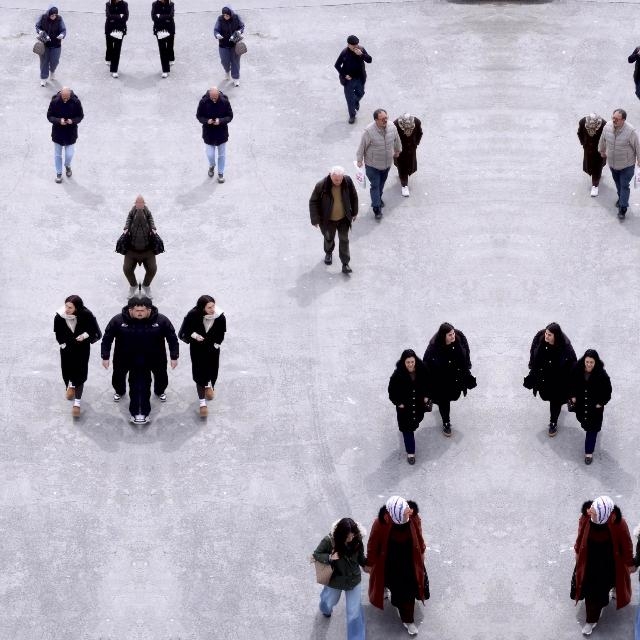person: (366, 496, 428, 636), (572, 496, 634, 636), (313, 516, 372, 640), (422, 322, 478, 438), (522, 322, 578, 438), (177, 294, 227, 418), (53, 294, 103, 418), (387, 348, 433, 466), (567, 348, 613, 466), (309, 166, 359, 274), (356, 108, 404, 220), (140, 296, 180, 426), (100, 296, 140, 426), (596, 108, 640, 220), (196, 86, 234, 184), (46, 86, 84, 184), (334, 35, 372, 125), (576, 112, 608, 198), (392, 112, 423, 198), (213, 7, 245, 88), (35, 7, 67, 88), (140, 194, 160, 298), (120, 194, 140, 298), (150, 0, 176, 78), (104, 0, 130, 78), (628, 516, 640, 639), (628, 35, 640, 125)
